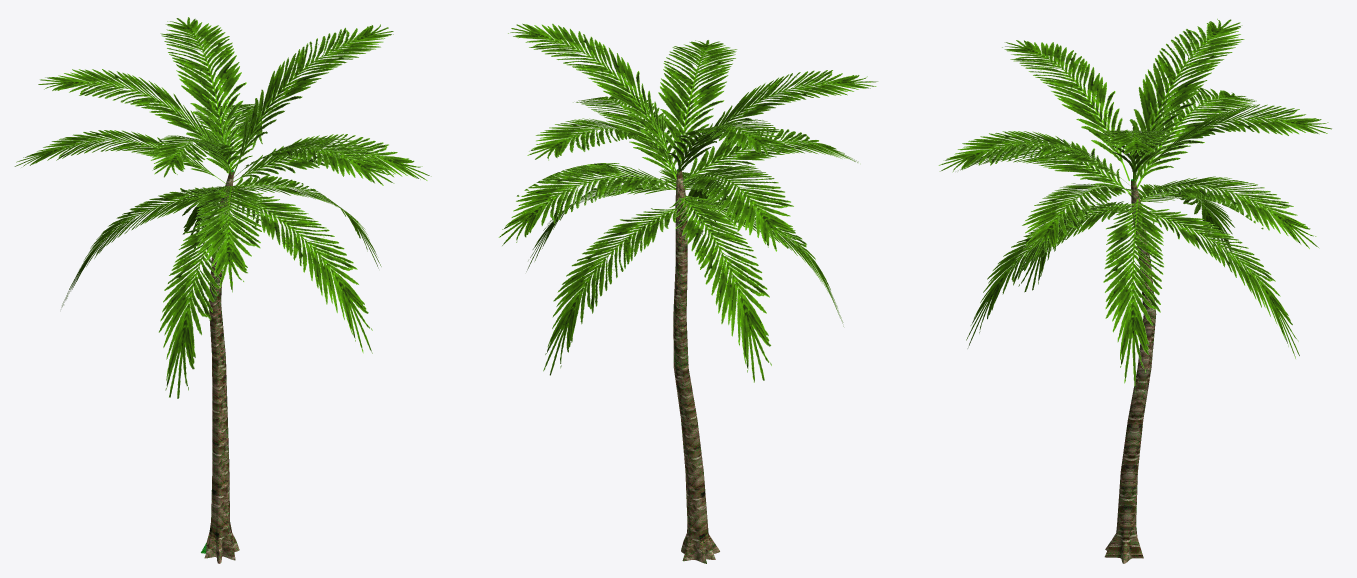
Rendered from palmtree6.fbx.
The picture shows the model from 3 angles, left to right: view 1: azimuth 30°, elevation 25°; view 2: azimuth 150°, elevation 25°; view 3: azimuth 270°, elevation 25°; orthographic projection. The views are drawn at different scales.
Visible parts, largest first — view 1: palmtree2_dxf1; view 2: palmtree2_dxf1; view 3: palmtree2_dxf1.
Boxes of the visible parts, bbox=[...] form: palmtree2_dxf1: bbox=[14, 17, 431, 563]; palmtree2_dxf1: bbox=[498, 23, 878, 563]; palmtree2_dxf1: bbox=[938, 18, 1331, 563].
Bounding box in the file's own units: 3.54 × 4.58 × 3.64.
